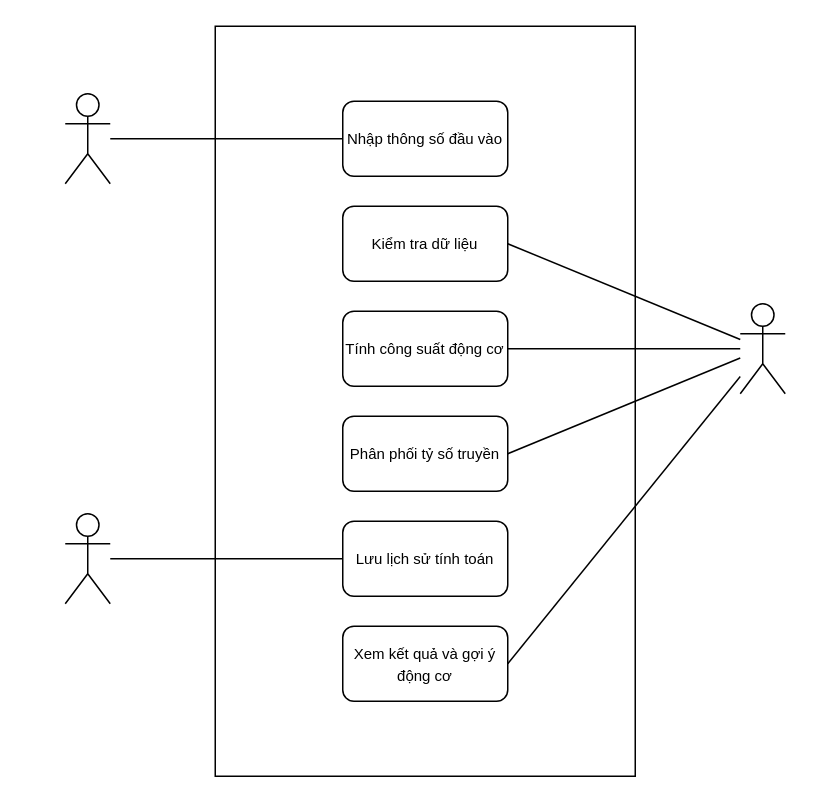
This 825x803 diagram has some shape labels left out. The shapes that lost their labels are listed below. From the top down, each one's centre as x and y in pixels, then its label:
At (x=87, y=138): "Người dùng".
At (x=762, y=348): "Hệ thống".
At (x=87, y=558): "CSDL Động Cơ".
